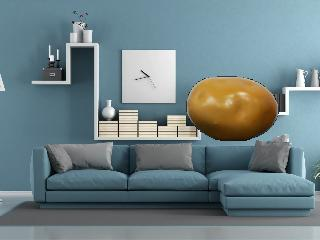potato: (182, 74, 280, 145)
